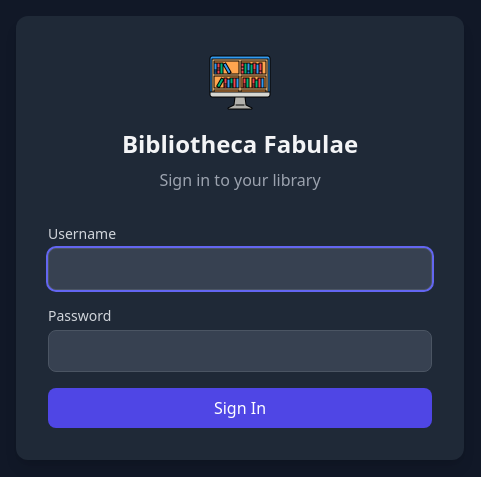
Test: LoginPage › renders TOTP form with Verify button after login
Check: the text "Sign in to your library" is shown, box [159,169,321,191]
Type "admin" into the field at [240, 269], box [48,248,432,290]
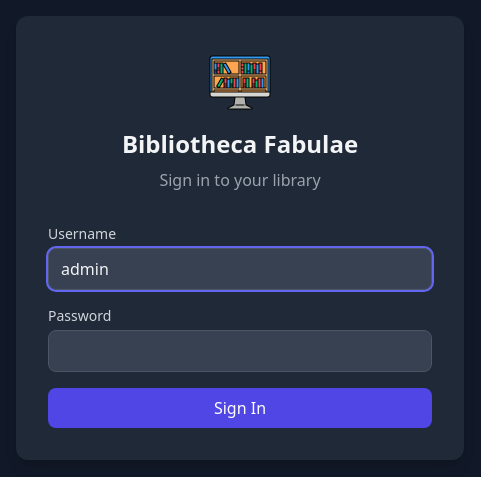
Type "password123" into the password field at [240, 351], box [48,330,432,372]
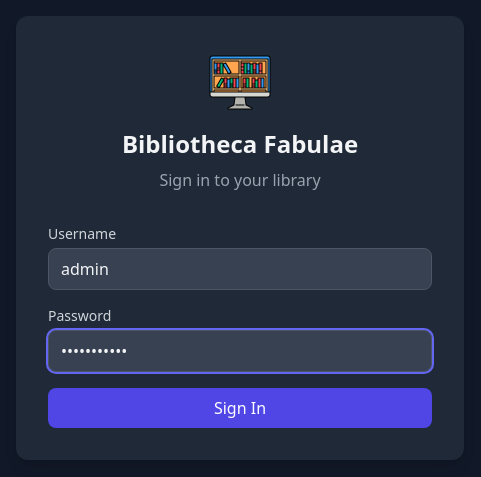
Click the button "Sign In" at [240, 408], box [48,388,432,428]
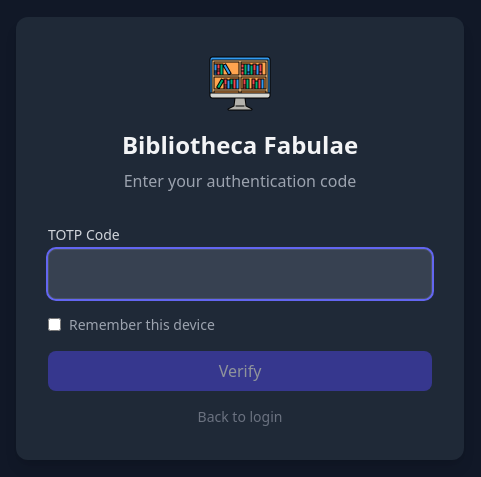
Check: the button "Verify" is shown, box [48,350,432,390]
